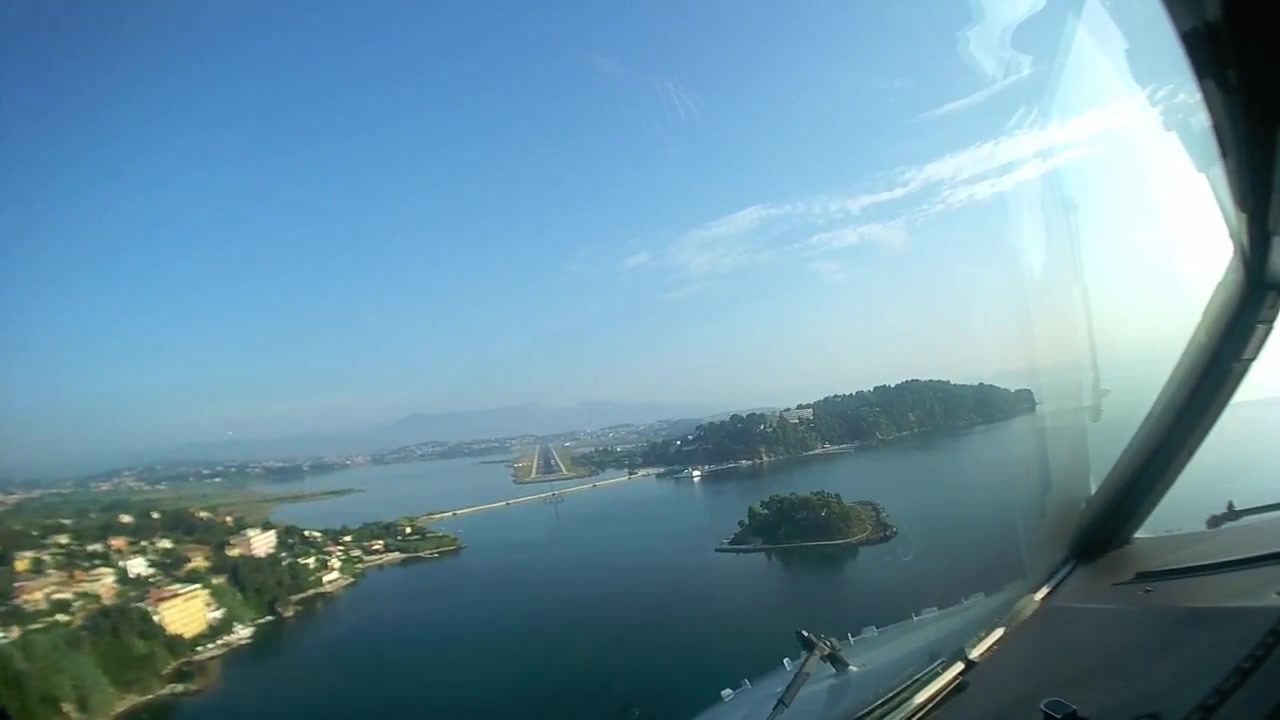runway: (532, 445, 569, 479)
